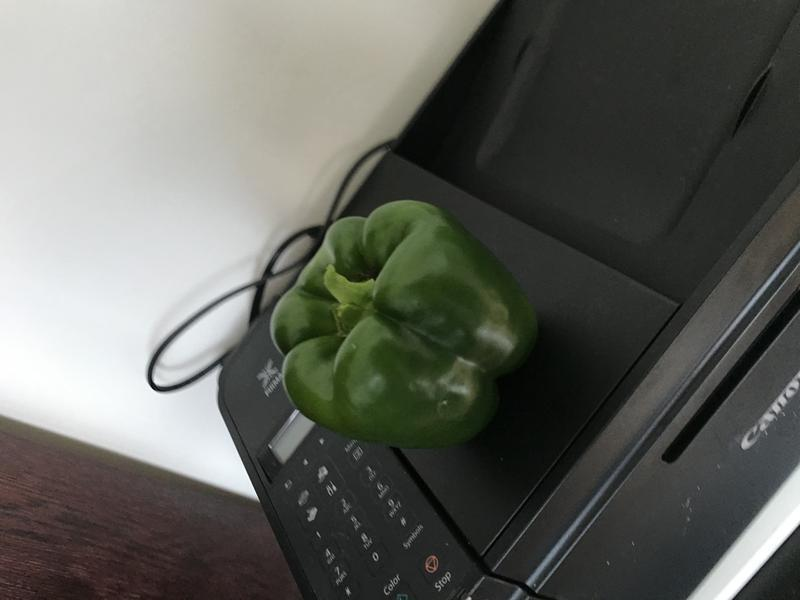green_pepper: (261, 191, 549, 474)
